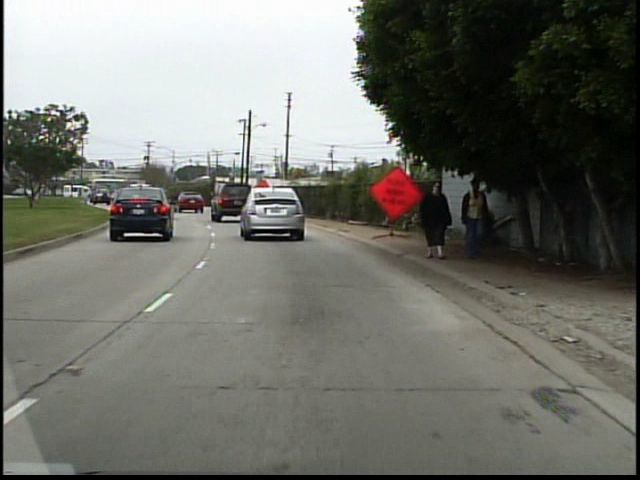person: (412, 177, 452, 262), (455, 174, 492, 261)
